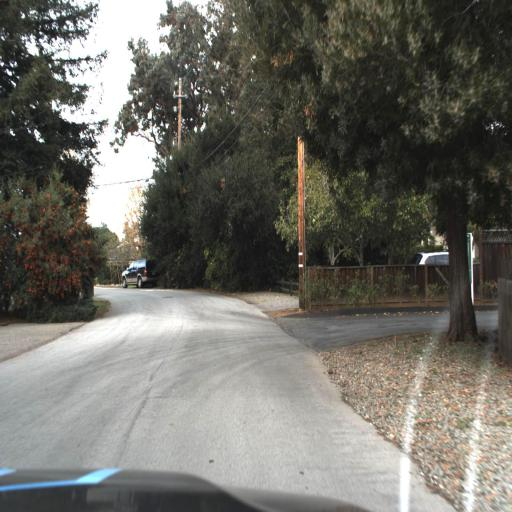car: (411, 243, 467, 276), (116, 252, 156, 295)
